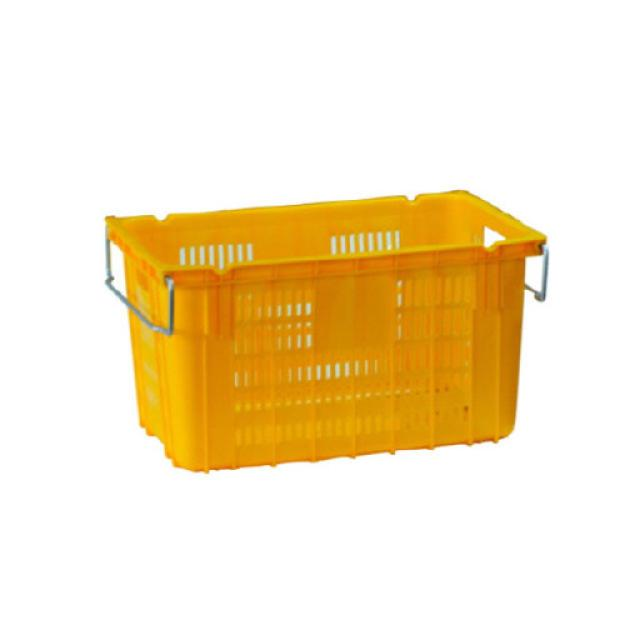basket: (103, 186, 560, 477)
